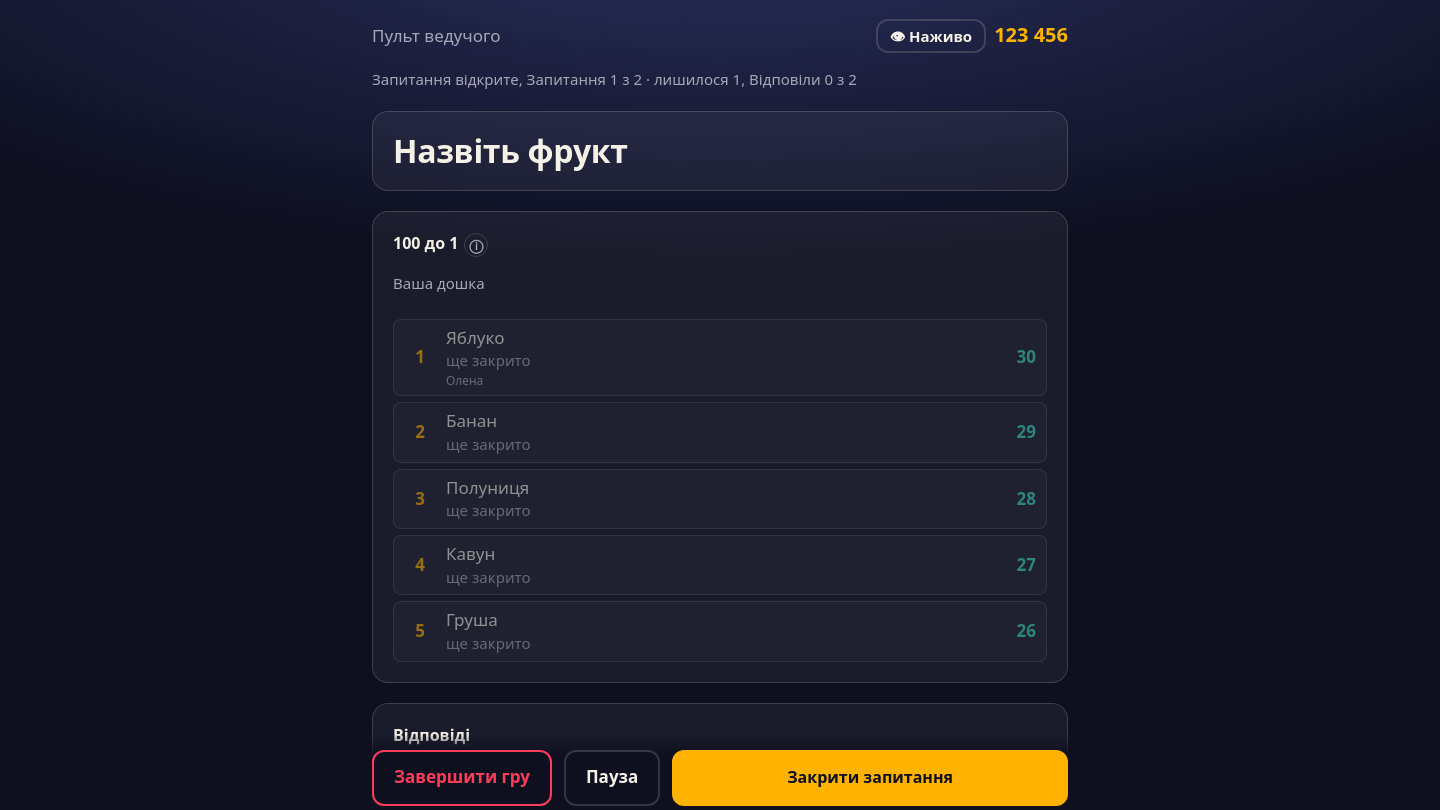
Scenario: HostScreen: survey (10e) › has a help button on the survey panel that sends nothing
Click the button named "Довідка: 100 до 1". click: point(476, 245)
box: [464, 233, 488, 257]
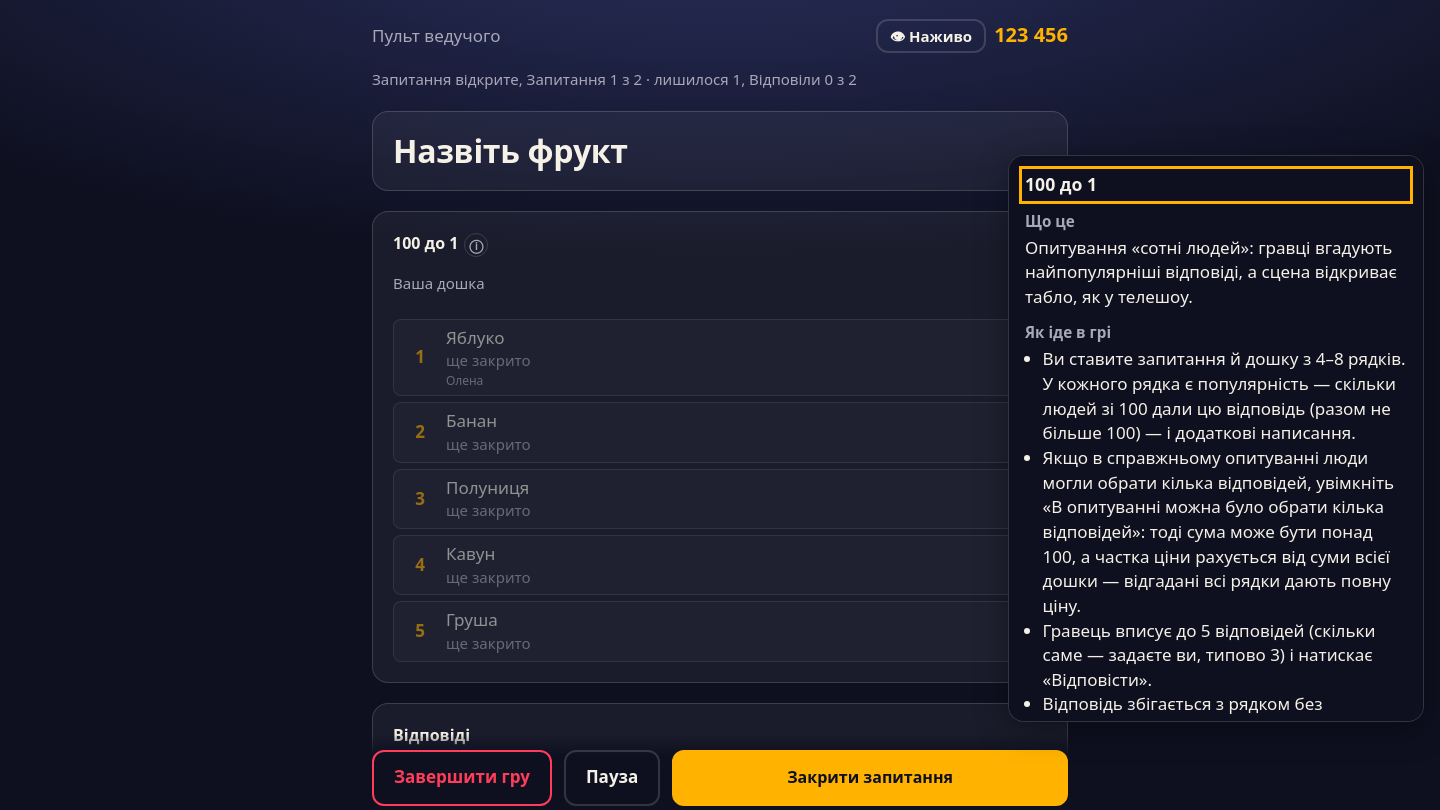
Expected: the dialog "100 до 1" is shown, [1008, 155, 1424, 722]
